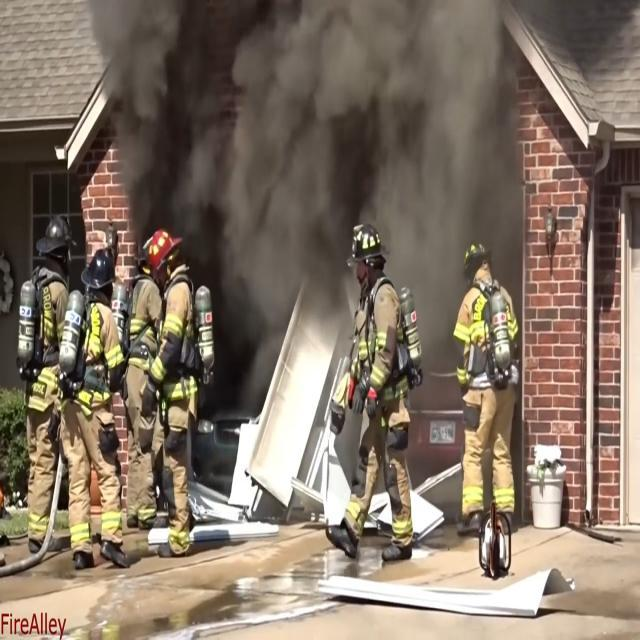Smoke: (93, 9, 484, 227)
